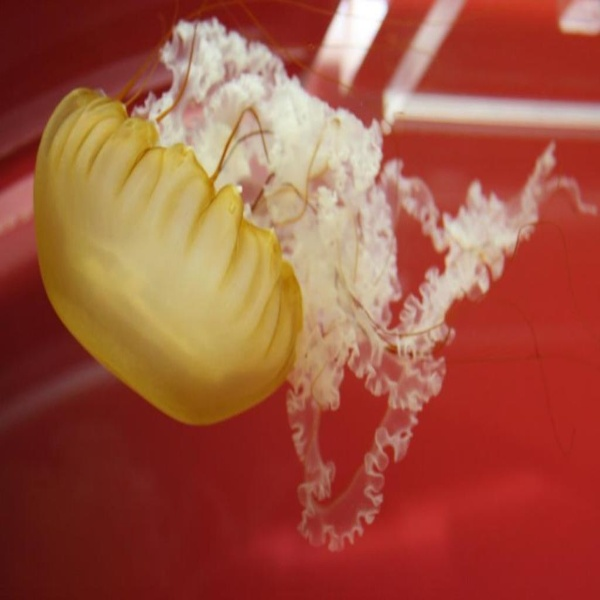Jellyfish: (31, 0, 599, 550)
